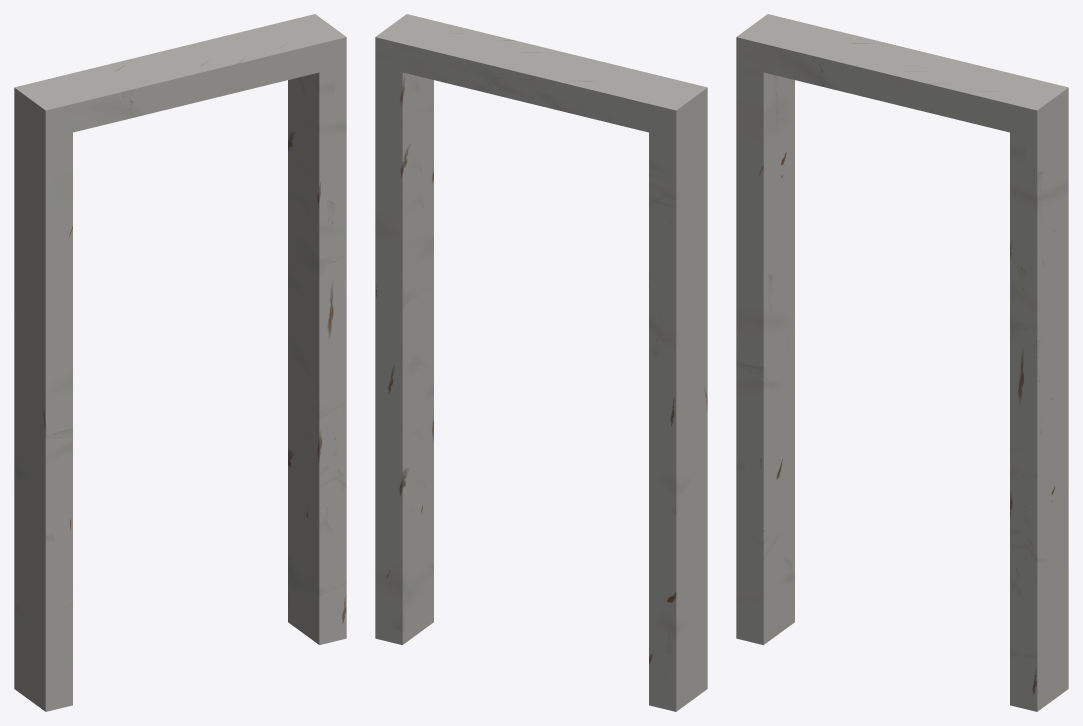
The model's file is Tuerrahmen.fbx.
3 views of the same model, side by side, from view 1: azimuth 30°, elevation 25°; view 2: azimuth 150°, elevation 25°; view 3: azimuth 330°, elevation 25° (orthographic).
Visible parts, largest first — view 1: Tuerrahmen; view 2: Tuerrahmen; view 3: Tuerrahmen.
Boxes of the visible parts, x1,y1,x2,y2 form: Tuerrahmen: (14, 14, 346, 711); Tuerrahmen: (375, 14, 707, 711); Tuerrahmen: (736, 14, 1068, 711).
Size of the model in its own units: 1.1 by 2.1 by 0.2.
